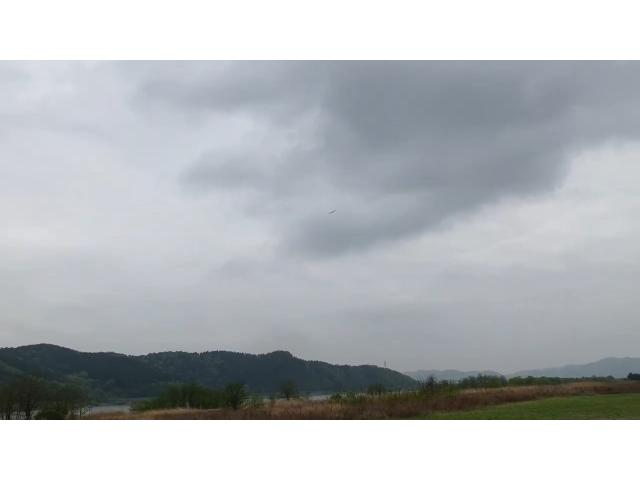Anti-Drone: (324, 206, 346, 222)
